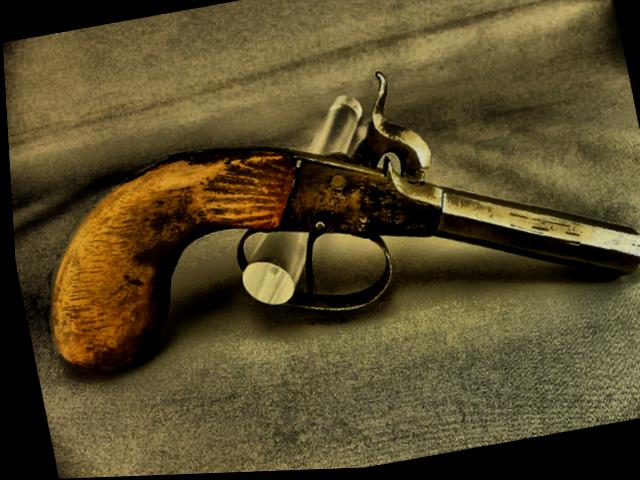pistol: (6, 31, 640, 390)
